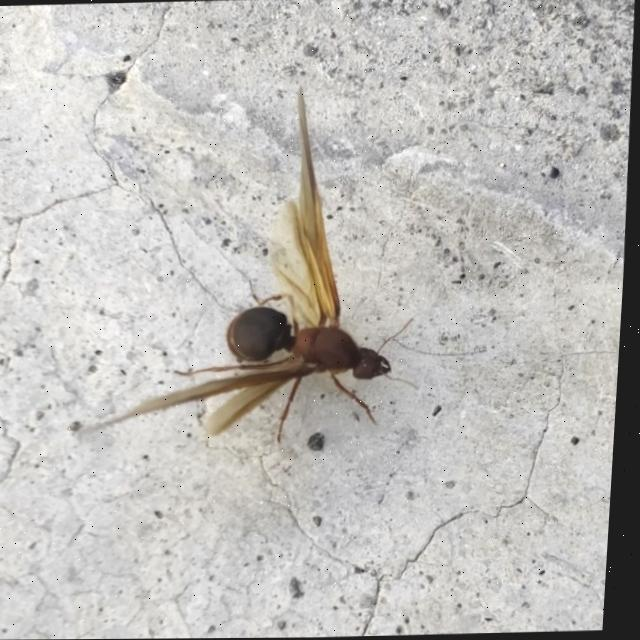Alive-Female-Alate: (76, 83, 439, 448)
